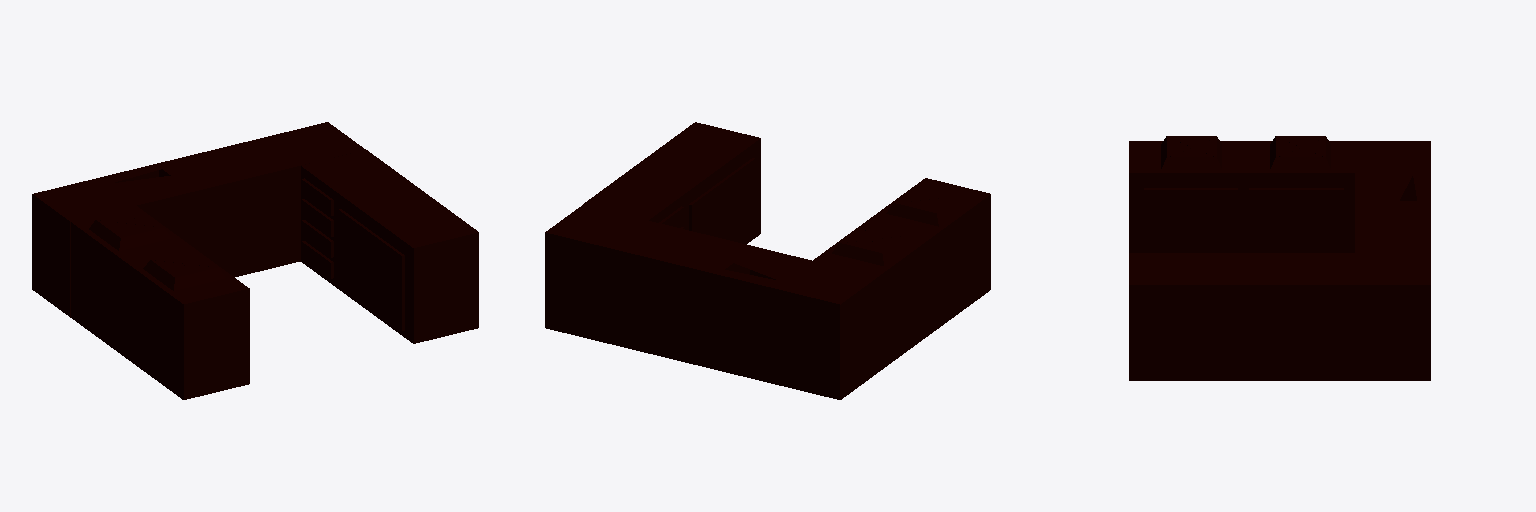
File: balcao.obj
3 renders of one model, left to right at view 1: azimuth 30°, elevation 25°; view 2: azimuth 150°, elevation 25°; view 3: azimuth 270°, elevation 25°, orthographic.
Visible parts, largest first — view 1: Cube.002_Cube.018; view 2: Cube.002_Cube.018; view 3: Cube.002_Cube.018.
Part boxes in pixels (bbox=[...]): Cube.002_Cube.018: bbox=[32, 122, 478, 399]; Cube.002_Cube.018: bbox=[545, 122, 990, 399]; Cube.002_Cube.018: bbox=[1129, 136, 1430, 380].
Size of the model in its own units: 19.41 by 6.65 by 17.16.